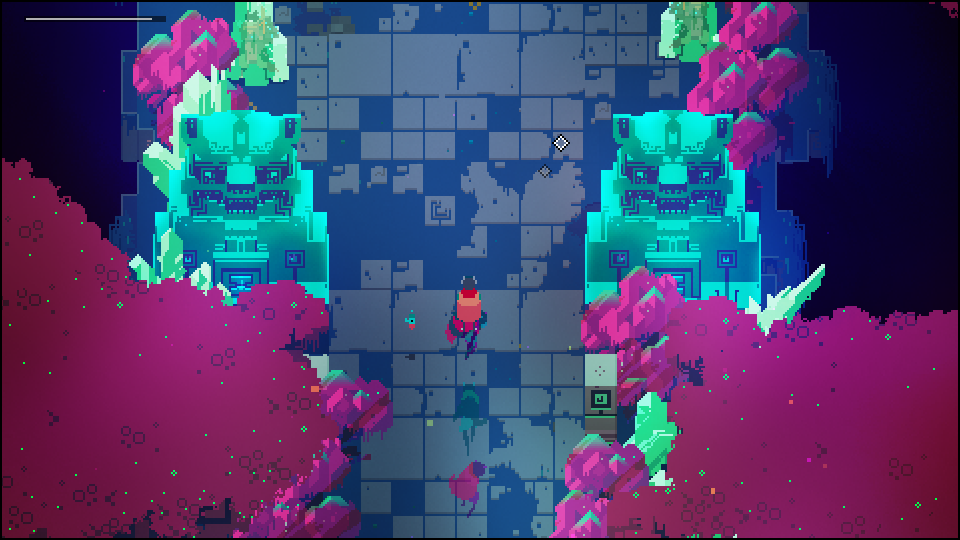player: (451, 268, 489, 331)
